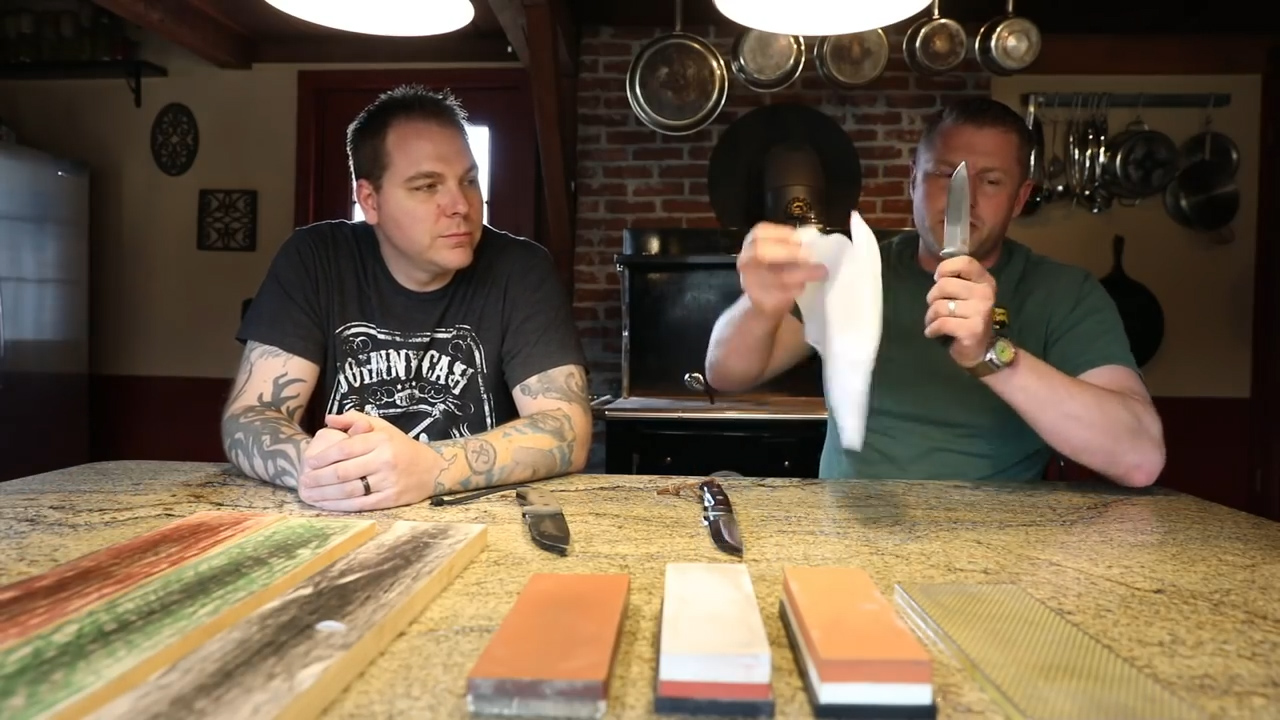knife: (928, 150, 999, 311)
